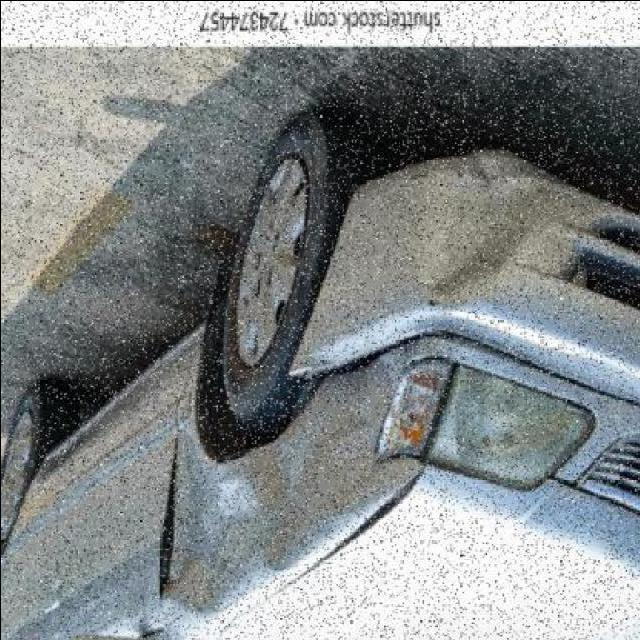fender-dent: (171, 365, 391, 585)
front-bumper-dent: (312, 144, 638, 357)
